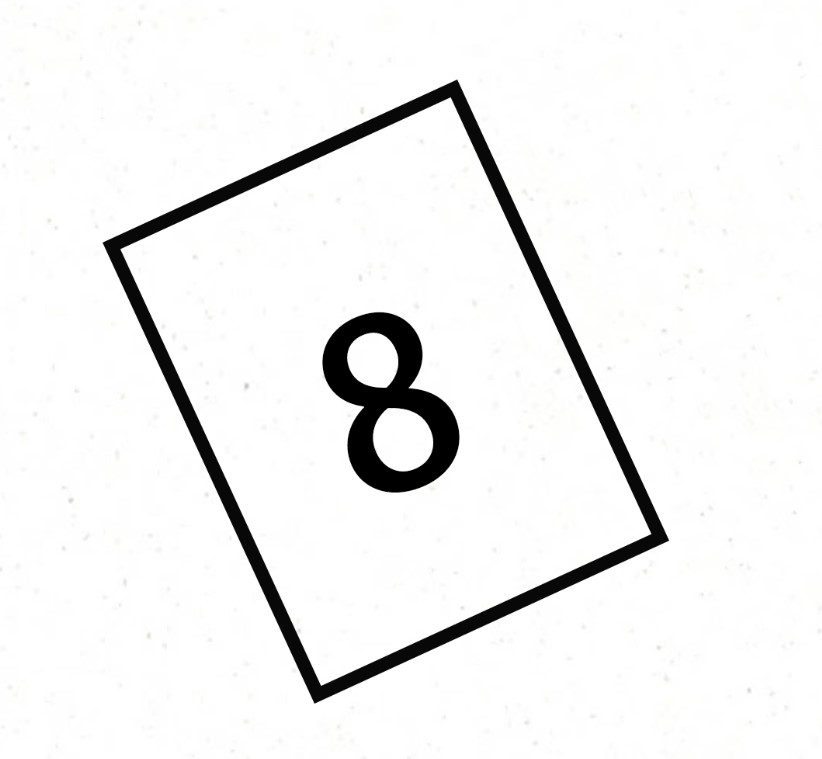eight: (292, 272, 505, 538)
